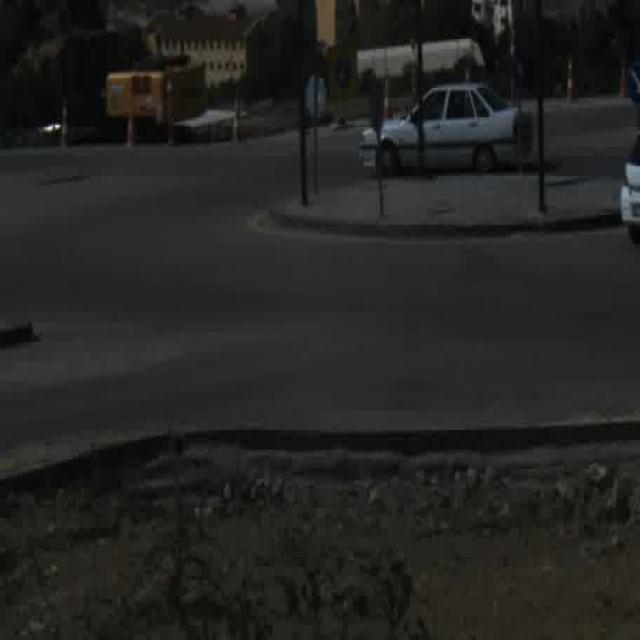Car: (350, 82, 535, 179), (618, 128, 640, 246)
